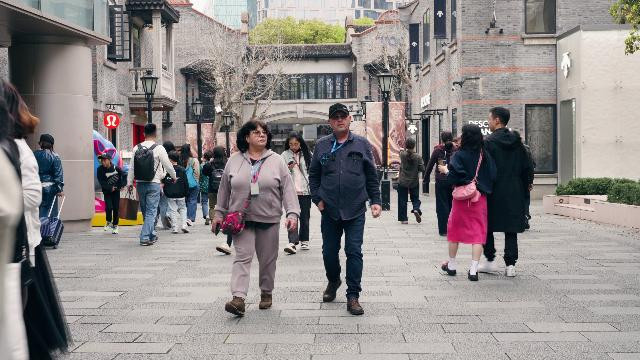person: (211, 119, 301, 318), (307, 103, 383, 316), (435, 123, 498, 282), (477, 108, 535, 278), (127, 123, 177, 246), (280, 132, 313, 253), (422, 131, 458, 237), (202, 146, 234, 254), (511, 130, 538, 229), (35, 134, 65, 218), (398, 138, 426, 225), (97, 153, 127, 234), (176, 144, 200, 226), (162, 140, 177, 155)
